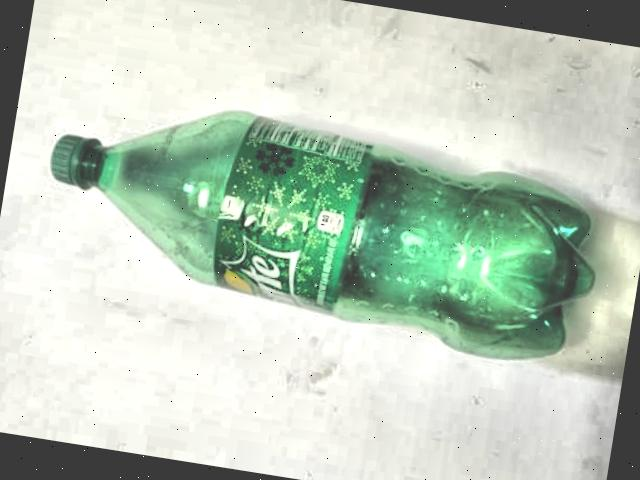Bottles: (0, 37, 640, 398)
